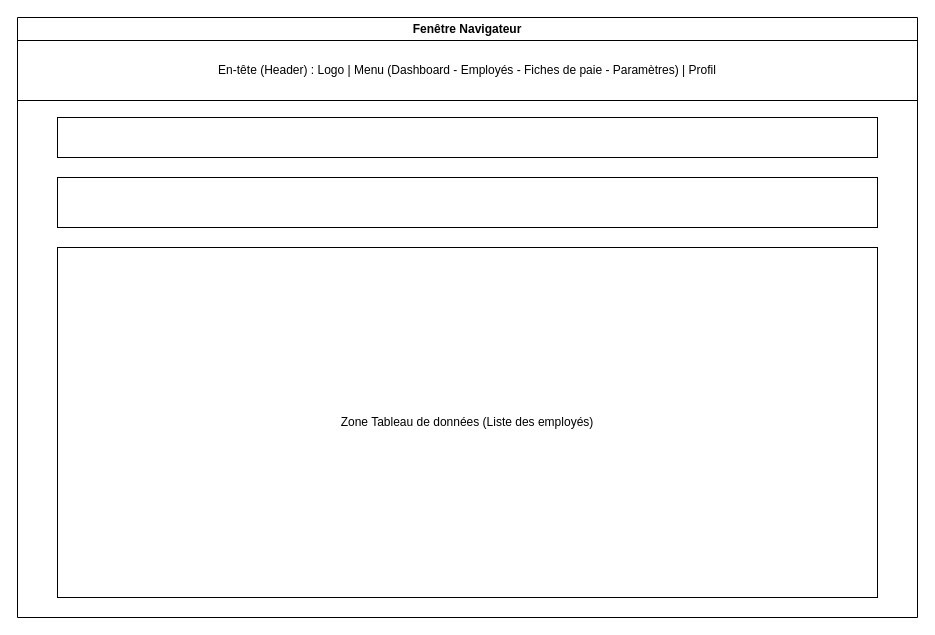
This 935x635 diagram has some shape labels left out. Each missing label, with the centre of its shape:
"Titre de la page (Employés)" belongs at pixel 467 137.
"Zone Actions (Recherche, Filtres, Bouton Ajouter)" belongs at pixel 467 202.
